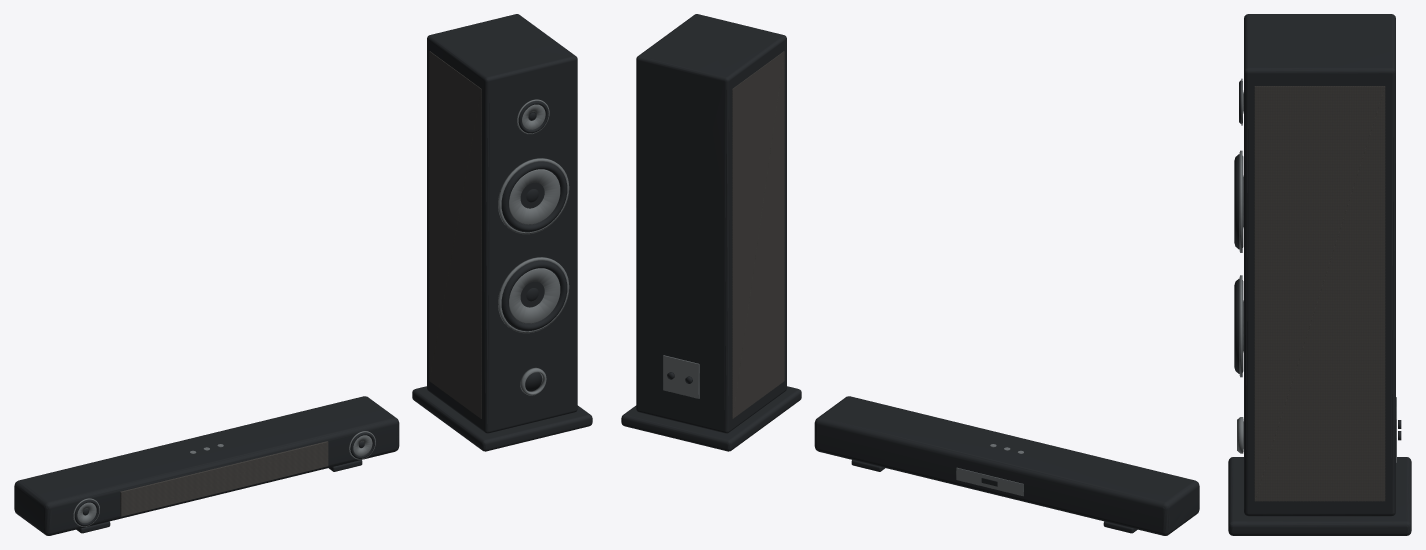
3 views of the same model, side by side, from view 1: azimuth 30°, elevation 25°; view 2: azimuth 150°, elevation 25°; view 3: azimuth 270°, elevation 25° (orthographic). The views are drawn at different scales.
Parts seen in each view (by area): view 1: FLOOR_SPEAKER, SOUNDBAR; view 2: FLOOR_SPEAKER, SOUNDBAR; view 3: FLOOR_SPEAKER.
Boxes of the visible parts, x1,y1,x2,y2 form: FLOOR_SPEAKER: (412,14,592,451); SOUNDBAR: (14,396,399,535); FLOOR_SPEAKER: (621,14,801,451); SOUNDBAR: (814,396,1199,535); FLOOR_SPEAKER: (1228,14,1411,535).
Size of the model in its own units: 1.34 by 0.9 by 0.32.
Materials: 3 (1 with a texture image).
